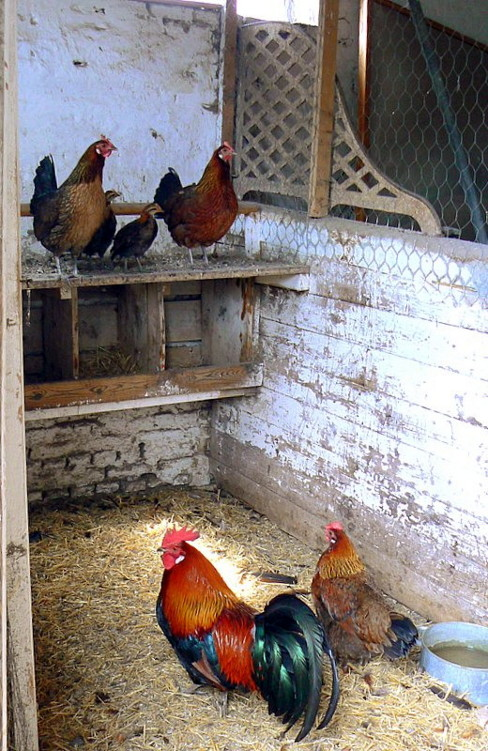chicken: (154, 528, 313, 738), (307, 516, 432, 681), (29, 134, 114, 278), (162, 139, 254, 272), (116, 204, 163, 264)
